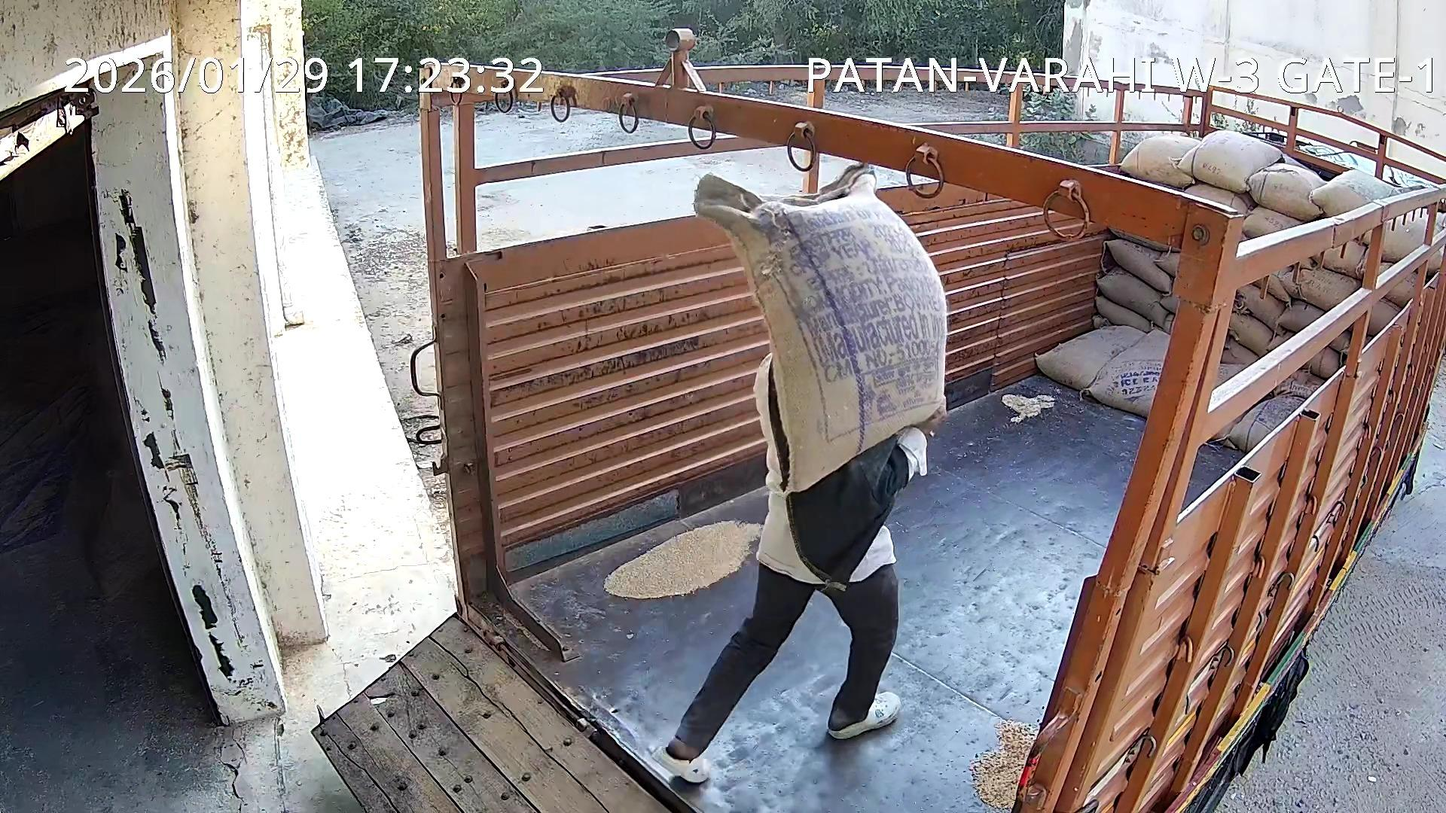Sack: (695, 165, 948, 492)
